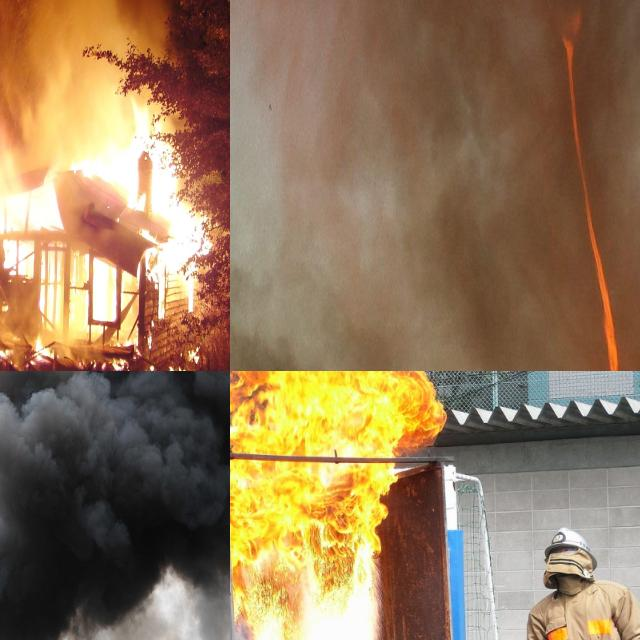fire: (230, 371, 460, 640), (0, 104, 211, 371), (556, 20, 632, 371)
smoke: (230, 0, 640, 371), (0, 371, 230, 640), (0, 0, 174, 111)
